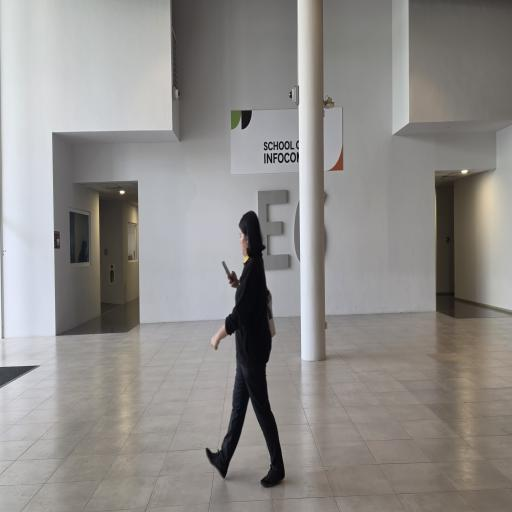person_left: (206, 198, 300, 493)
